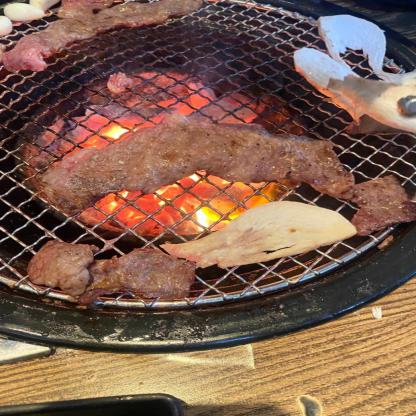Carne: (17, 118, 415, 223), (82, 244, 210, 301), (26, 238, 98, 297)
